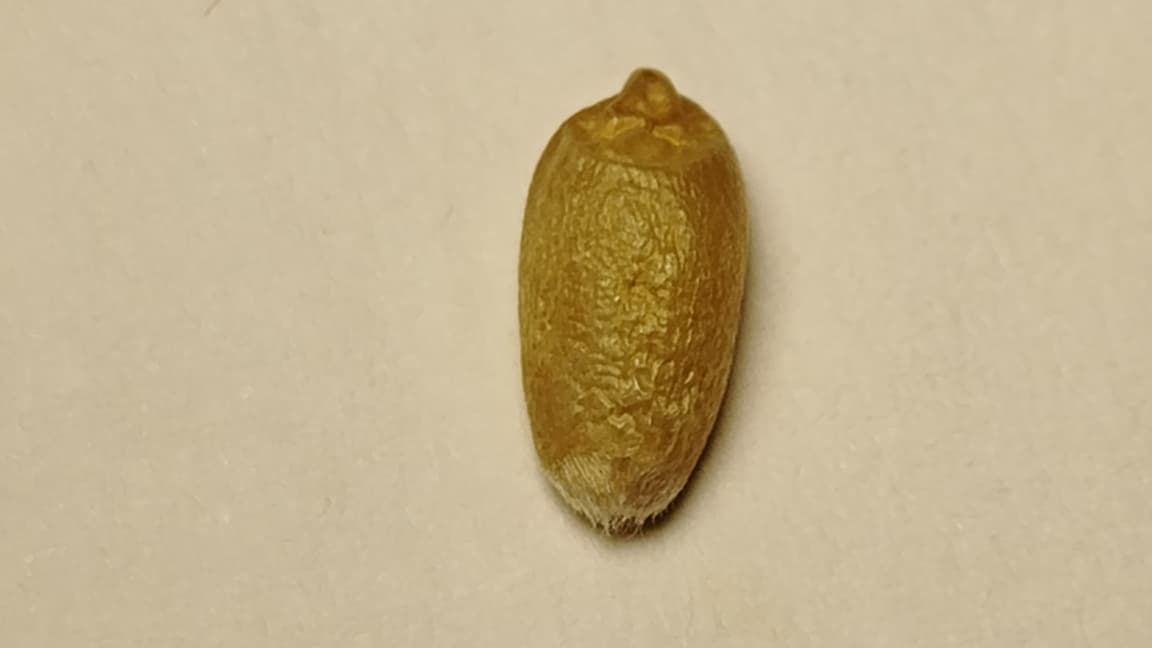healthy: (520, 68, 749, 534)
